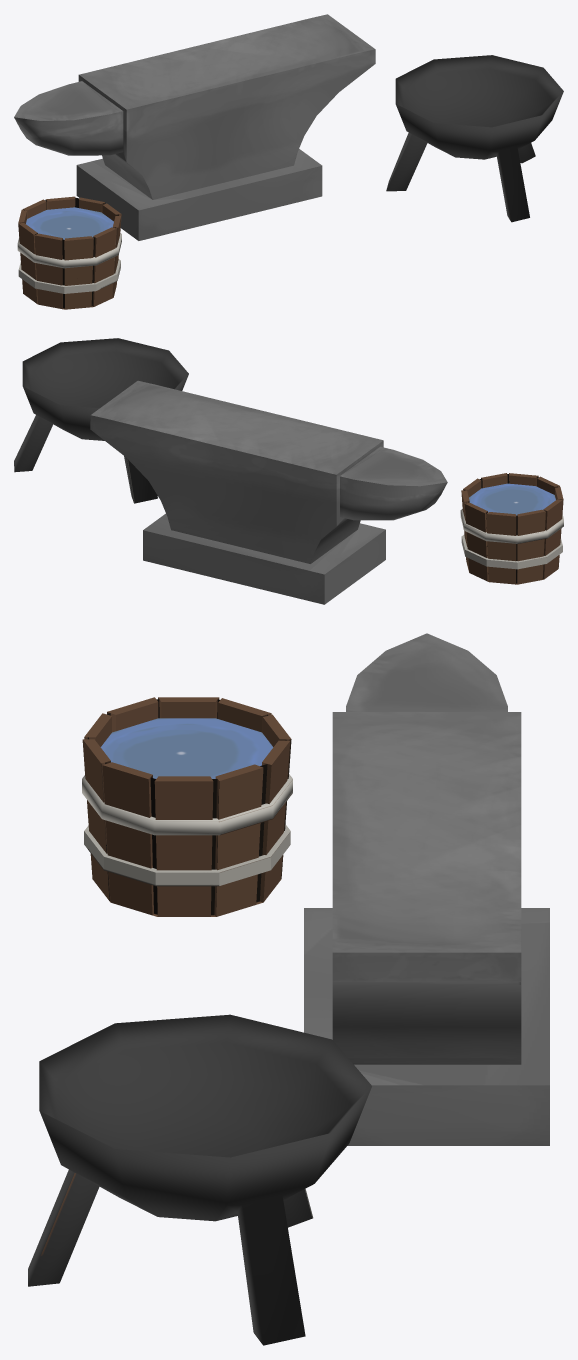
Rendered from Forja.fbx.
3 renders of one model, top to bottom at view 1: azimuth 30°, elevation 25°; view 2: azimuth 150°, elevation 25°; view 3: azimuth 270°, elevation 25°, orthographic. The views are drawn at different scales.
Parts seen in each view (by area): view 1: Cube, Sphere, Circle, Circle.002, Circle.001; view 2: Cube, Sphere, Circle, Circle.002, Circle.001; view 3: Cube, Sphere, Circle, Circle.002, Circle.001.
Boxes of the visible parts, <box> form: Cube: <box>14,14,375,240</box>; Sphere: <box>386,55,563,222</box>; Circle: <box>18,196,121,309</box>; Circle.002: <box>18,259,120,293</box>; Circle.001: <box>17,233,121,268</box>; Cube: <box>90,380,447,604</box>; Sphere: <box>14,338,188,503</box>; Circle: <box>461,473,563,584</box>; Circle.002: <box>461,535,562,569</box>; Circle.001: <box>460,509,563,543</box>; Cube: <box>304,633,549,1145</box>; Sphere: <box>28,1014,371,1345</box>; Circle: <box>82,697,291,916</box>; Circle.002: <box>84,824,290,886</box>; Circle.001: <box>82,774,292,835</box>.
Size of the model in its own units: 704 by 167 by 304.
1 material, 1 textured.
